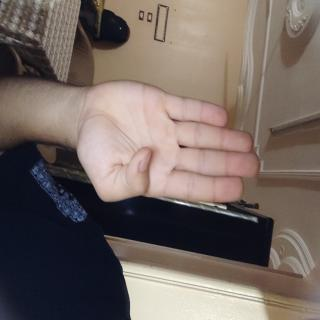KAAF: (53, 72, 156, 320)
